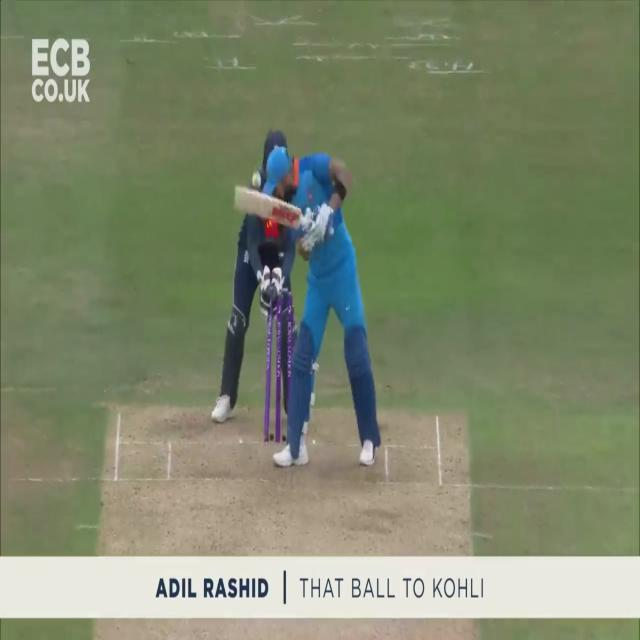ball: (253, 173, 261, 189)
